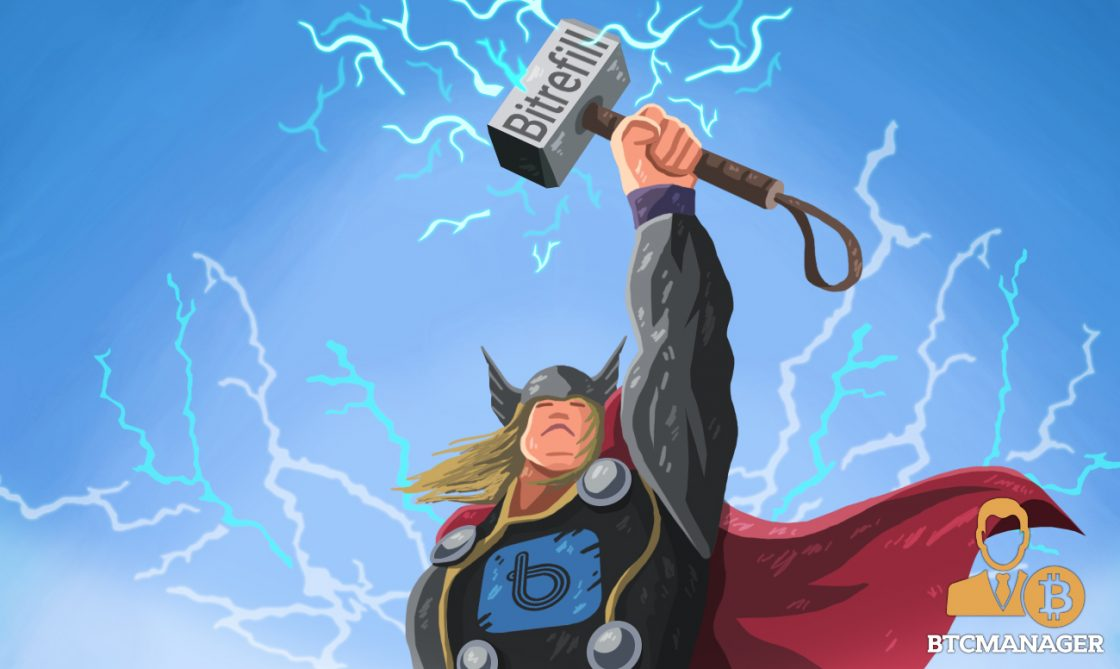THOR Hammer: (487, 21, 812, 204)
